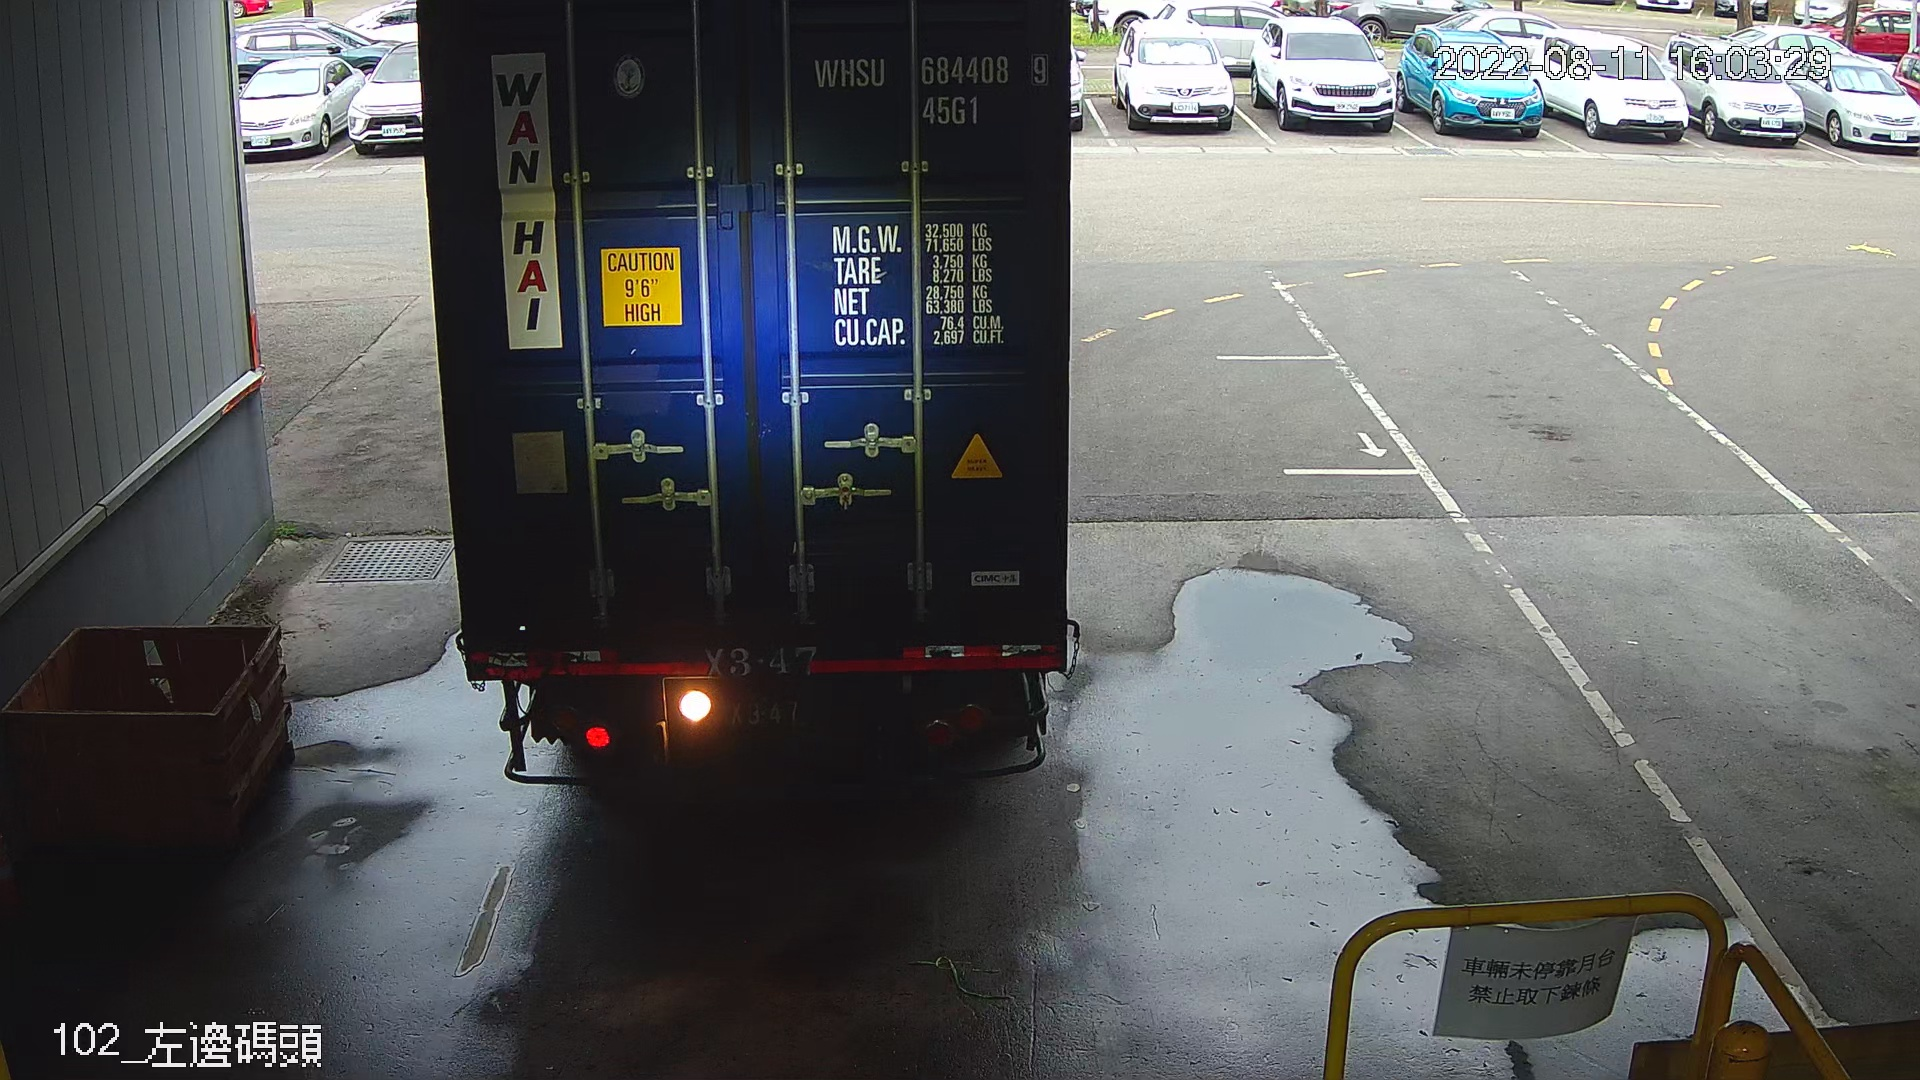container: (804, 41, 1062, 136)
